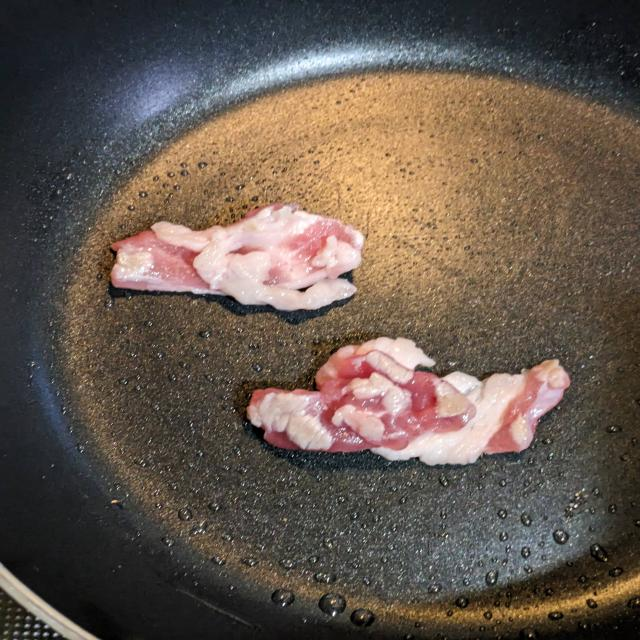NG undercooked pork,: (249, 331, 579, 476), (101, 196, 375, 317)
